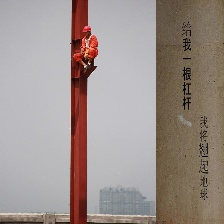helmet: (81, 24, 92, 36)
person: (73, 25, 100, 79)
